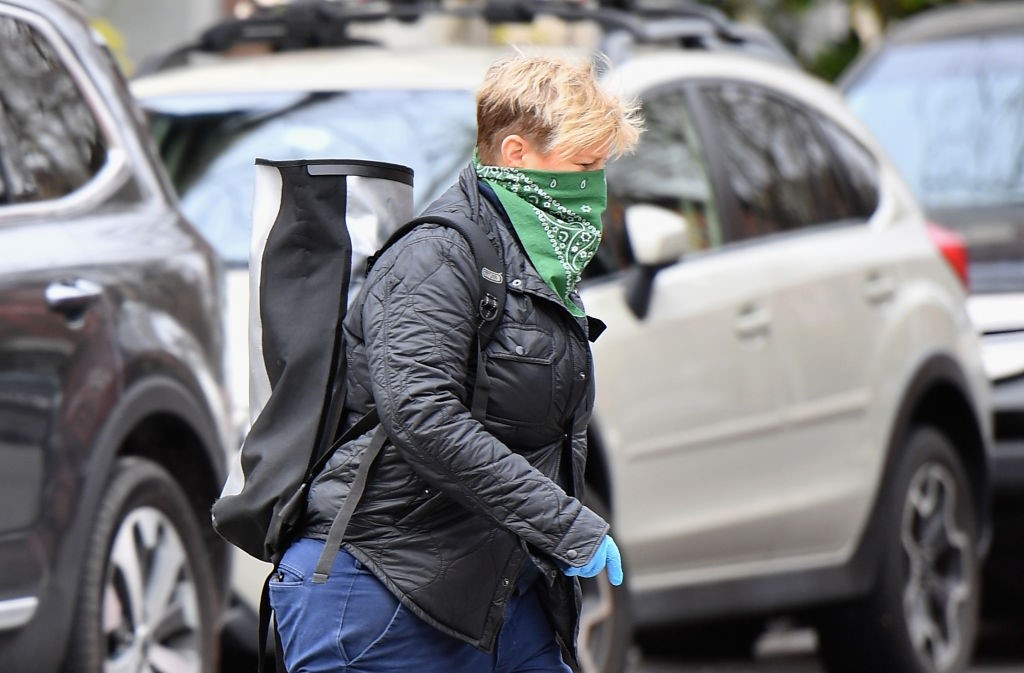face_with_mask: (476, 69, 612, 249)
